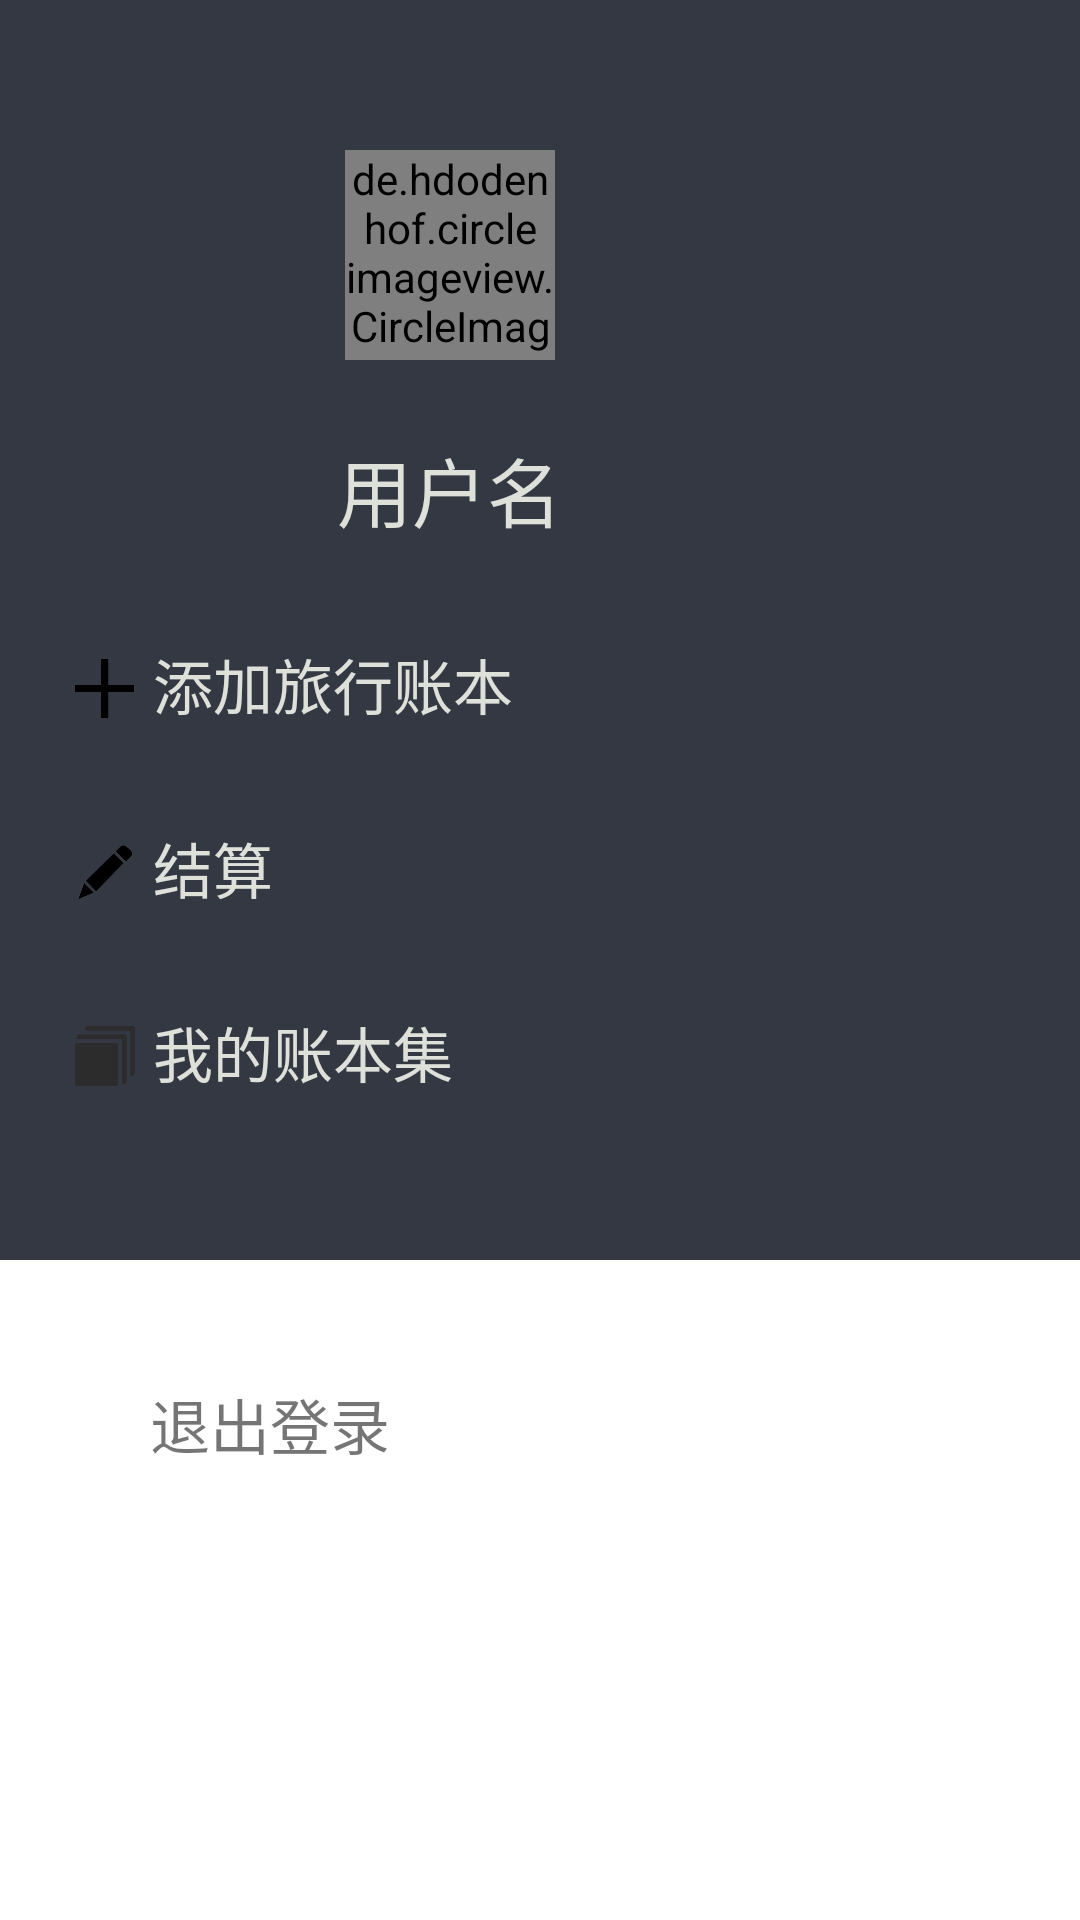

Screen size 1080w x 1920h. Icon name, then its center in pixels as point (x, y):
addpic: point (104, 688)
pencil: point (105, 872)
